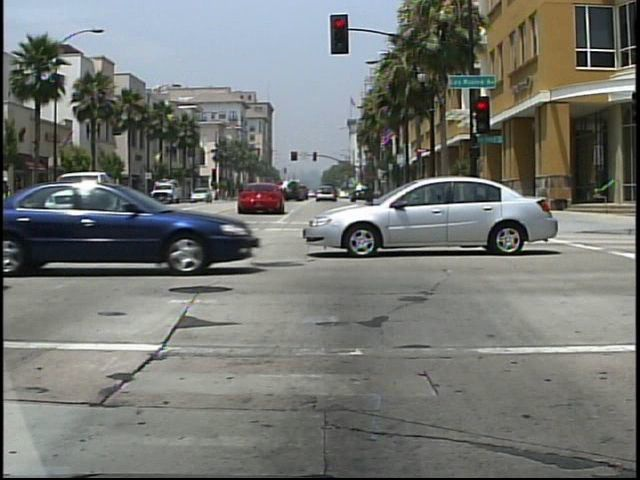person: (2, 172, 20, 228)
